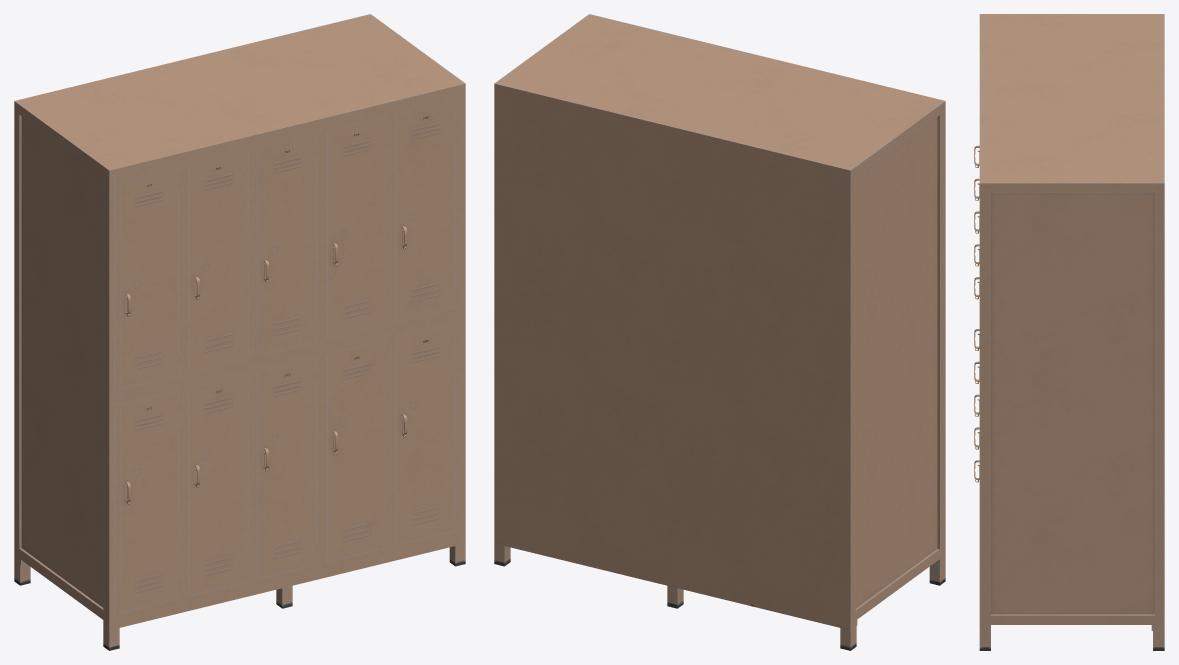
Rendered from industrial_-_locker.glb.
The picture shows the model from 3 angles, left to right: view 1: azimuth 30°, elevation 25°; view 2: azimuth 150°, elevation 25°; view 3: azimuth 270°, elevation 25°; orthographic projection. The views are drawn at different scales.
Visible parts, largest first — view 1: Object_2; view 2: Object_2; view 3: Object_2.
Boxes of the visible parts, box(x1,y1,x2,y2) form: Object_2: box(14, 14, 465, 650); Object_2: box(494, 14, 945, 650); Object_2: box(974, 14, 1164, 650).
Size of the model in its own units: 12.48 by 16.07 by 5.93.
1 material, 1 textured.
